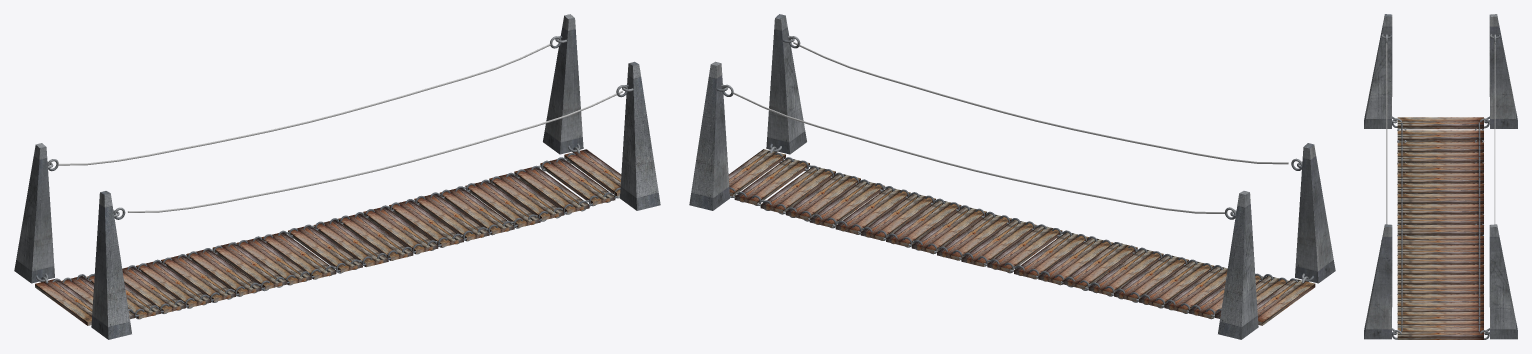
Rendered from brigh.FBX.
3 renders of one model, left to right at view 1: azimuth 30°, elevation 25°; view 2: azimuth 150°, elevation 25°; view 3: azimuth 270°, elevation 25°, orthographic. The views are drawn at different scales.
Visible parts, largest first — view 1: Box001, Box013, Box044, Box039, Box043, Box032, Box034, Box038, Box040, Box042, Box048, Box036 (+14 smaller); view 2: Box001, Box013, Box044, Box032, Box039, Box043, Box034, Box040, Box038, Box042, Box048, Box036 (+14 smaller); view 3: Box013, Box001, Box027, Box002, Box047, Box030, Box028, Box036, Box038, Box026, Box031, Box034 (+14 smaller).
Part boxes in pixels (x1,y1,x2,y2): Box001: [14, 143, 131, 339]; Box013: [543, 14, 660, 210]; Box044: [514, 167, 589, 213]; Box039: [363, 207, 438, 253]; Box043: [540, 159, 615, 205]; Box032: [212, 242, 287, 289]; Box034: [288, 226, 362, 272]; Box038: [389, 200, 463, 247]; Box040: [465, 181, 540, 227]; Box042: [414, 194, 489, 240]; Box048: [489, 174, 564, 220]; Box036: [186, 249, 261, 295]; Box001: [1218, 143, 1335, 339]; Box013: [689, 14, 806, 210]; Box044: [760, 167, 835, 213]; Box032: [1062, 242, 1137, 289]; Box039: [911, 207, 986, 253]; Box043: [734, 159, 809, 205]; Box034: [987, 226, 1062, 272]; Box040: [809, 181, 884, 227]; Box038: [886, 200, 961, 247]; Box042: [860, 194, 935, 240]; Box048: [786, 174, 860, 220]; Box036: [1088, 249, 1163, 295]; Box013: [1364, 224, 1517, 339]; Box001: [1364, 14, 1517, 128]; Box027: [1397, 130, 1483, 142]; Box002: [1397, 117, 1483, 129]; Box047: [1397, 328, 1483, 339]; Box030: [1397, 152, 1483, 163]; Box028: [1397, 173, 1483, 183]; Box036: [1397, 183, 1483, 193]; Box038: [1397, 264, 1483, 274]; Box026: [1397, 142, 1483, 152]; Box031: [1397, 204, 1483, 214]; Box034: [1397, 225, 1483, 235].
Bounding box in the file's own units: 242 × 61.23 × 71.38.
